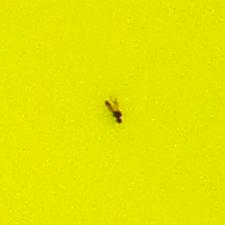Brachycera: (100, 100, 125, 125)
